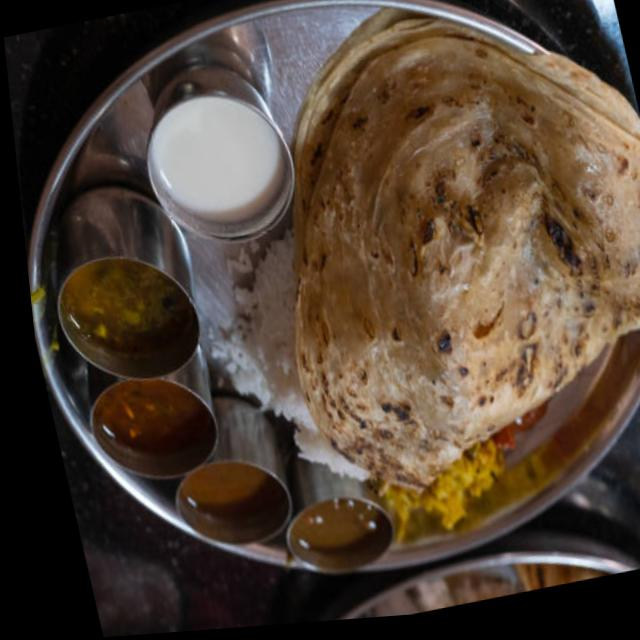CURD: (159, 110, 281, 222)
PAROTTA: (295, 20, 640, 495)
RICE: (214, 235, 368, 482)
VEGGIES: (63, 261, 183, 348)
